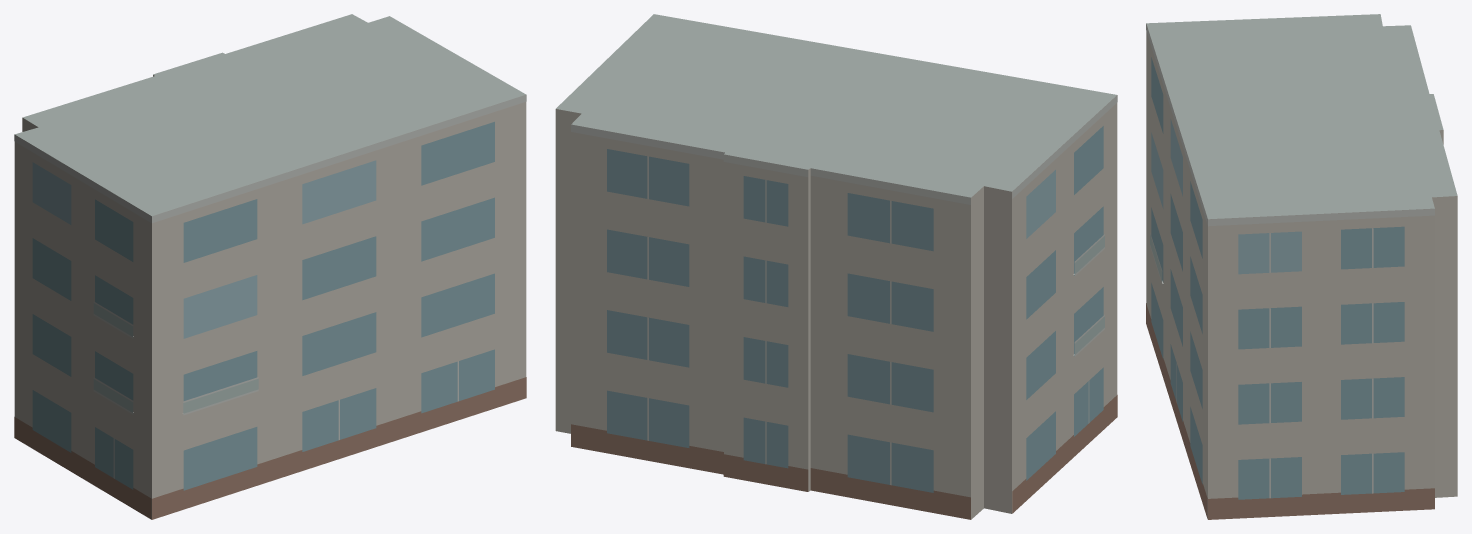
Rendered from survey-upis-32631136.glb.
3 views of the same model, side by side, from view 1: azimuth 30°, elevation 25°; view 2: azimuth 150°, elevation 25°; view 3: azimuth 270°, elevation 25° (orthographic). The views are drawn at different scales.
Parts seen in each view (by area): view 1: survey-upis-32631136.tmp; view 2: survey-upis-32631136.tmp; view 3: survey-upis-32631136.tmp.
Part boxes in pixels (left/top/right/bottom): survey-upis-32631136.tmp: left=14, top=14, right=526, bottom=519; survey-upis-32631136.tmp: left=555, top=14, right=1117, bottom=519; survey-upis-32631136.tmp: left=1146, top=14, right=1457, bottom=519.
Bounding box in the file's own units: 15.38 × 10.5 × 9.87.
